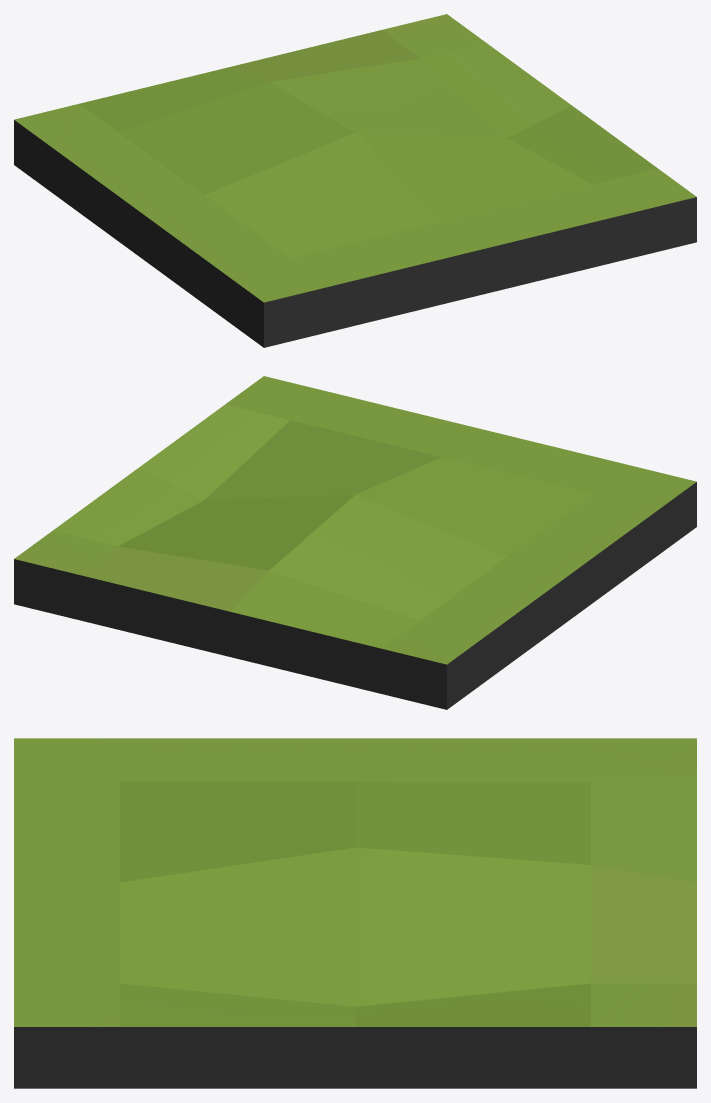
The model's file is earth_2.fbx.
3 views of the same model, one above another, from view 1: azimuth 30°, elevation 25°; view 2: azimuth 150°, elevation 25°; view 3: azimuth 270°, elevation 25° (orthographic). The views are drawn at different scales.
Visible parts, largest first — view 1: block; view 2: block; view 3: block.
Part boxes in pixels (bbox=[...]): block: bbox=[14, 14, 696, 347]; block: bbox=[14, 376, 696, 709]; block: bbox=[14, 738, 696, 1088].
Size of the model in its own units: 200 by 200 by 31.32.
Materials: 1 (1 with a texture image).
